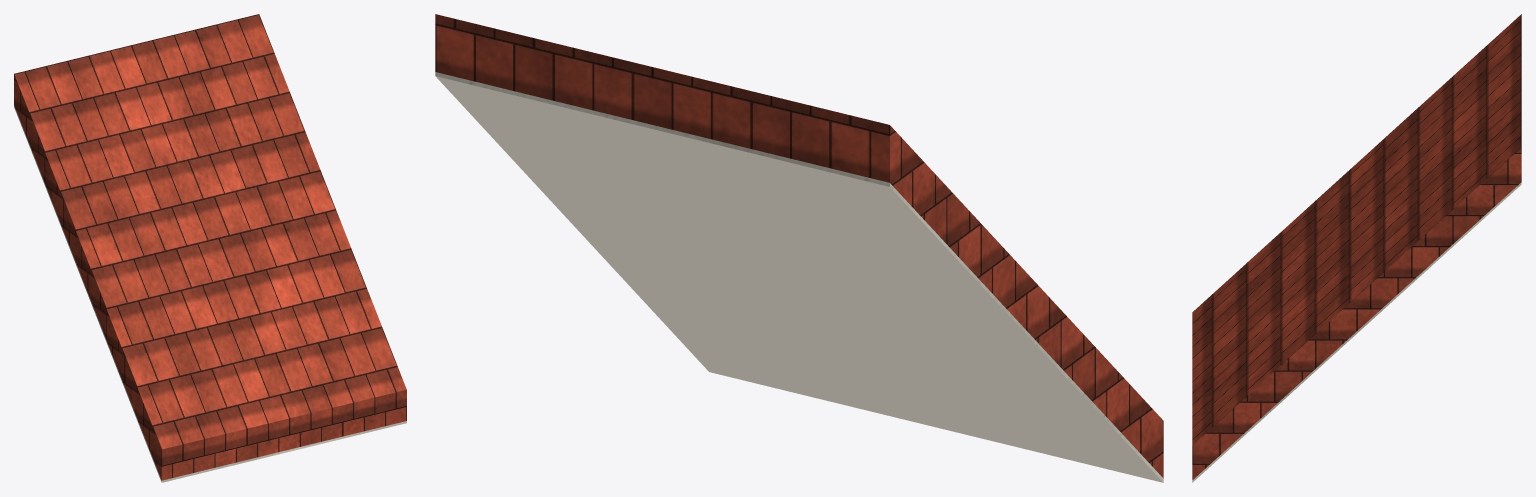
Rendered from garage_roof_end.glb.
The picture shows the model from 3 angles, left to right: view 1: azimuth 30°, elevation 25°; view 2: azimuth 150°, elevation 25°; view 3: azimuth 270°, elevation 25°; orthographic projection. The views are drawn at different scales.
Parts seen in each view (by area): view 1: garage_roof_end_roof_tiles, garage_roof_end_plaster; view 2: garage_roof_end_plaster, garage_roof_end_roof_tiles; view 3: garage_roof_end_roof_tiles, garage_roof_end_plaster.
Part boxes in pixels (x1,y1,x2,y2): garage_roof_end_roof_tiles: [14, 14, 406, 480]; garage_roof_end_plaster: [14, 105, 406, 482]; garage_roof_end_plaster: [435, 72, 1163, 482]; garage_roof_end_roof_tiles: [435, 14, 1163, 478]; garage_roof_end_roof_tiles: [1192, 14, 1521, 479]; garage_roof_end_plaster: [1192, 182, 1521, 482].
Bounding box in the file's own units: 2.3 × 2.7 × 2.4.
Materials: 2 (2 with a texture image).
